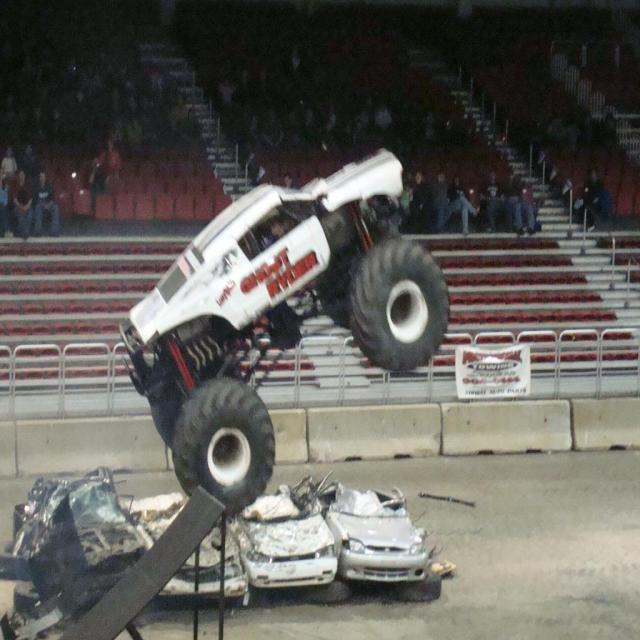car: (112, 147, 451, 506)
